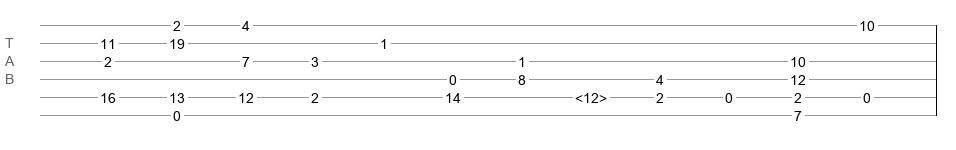0: (173, 108, 181, 118), (449, 72, 457, 82), (725, 90, 733, 100), (863, 90, 871, 100)
1: (380, 36, 388, 46), (518, 54, 526, 64)
10: (790, 54, 806, 64), (859, 18, 875, 28)
11: (100, 36, 116, 46)
12: (238, 90, 254, 100), (790, 72, 806, 82)
13: (169, 90, 185, 100)
14: (445, 90, 461, 100)
16: (100, 90, 116, 100)
19: (169, 36, 185, 46)
2: (104, 54, 112, 64), (173, 18, 181, 28), (311, 90, 319, 100), (656, 90, 664, 100), (794, 90, 802, 100)
3: (311, 54, 319, 64)
4: (242, 18, 250, 28), (656, 72, 664, 82)
7: (242, 54, 250, 64), (794, 108, 802, 118)
8: (518, 72, 526, 82)
harmonic: (575, 90, 607, 100)
